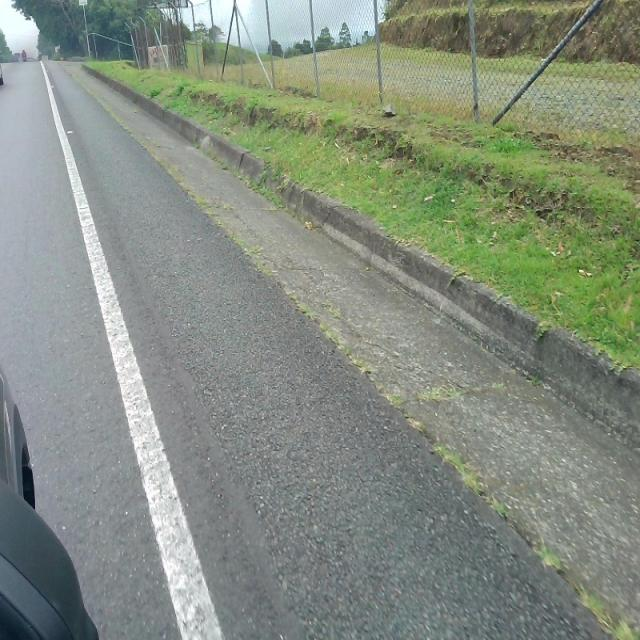DITCH: (44, 57, 638, 638)
